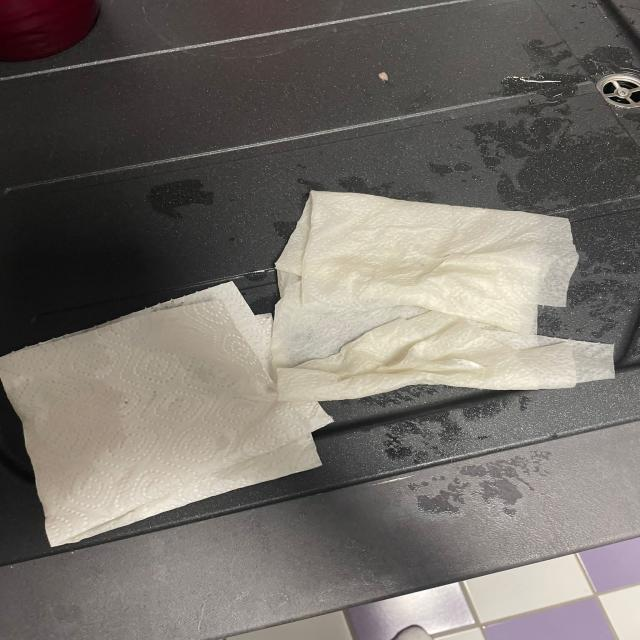kitchen paper: (0, 280, 331, 553), (262, 185, 621, 392)
